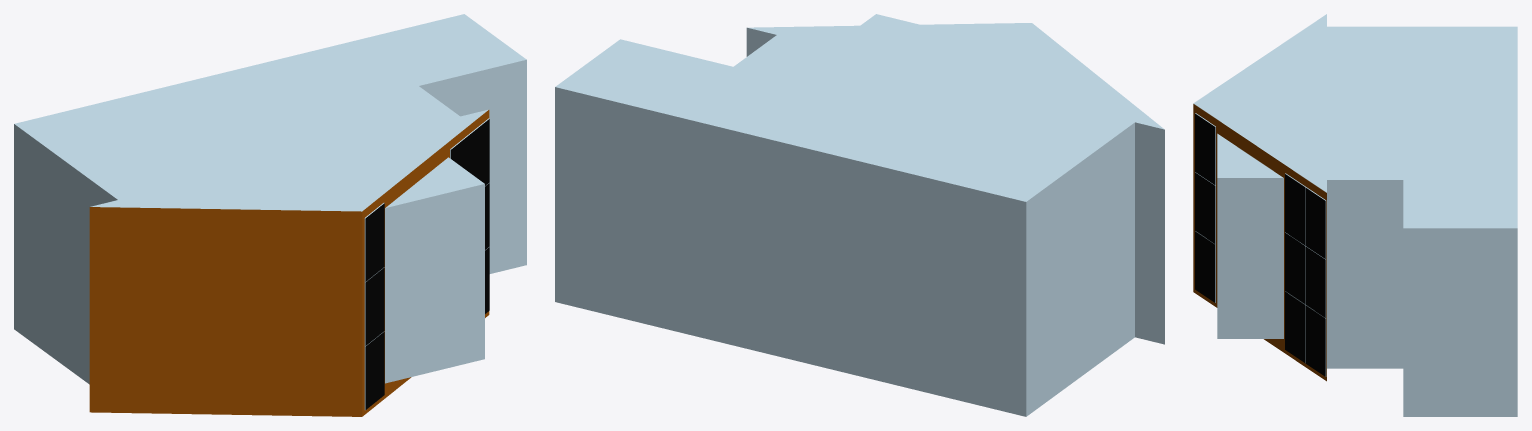
The model's file is house.glb.
3 renders of one model, left to right at view 1: azimuth 30°, elevation 25°; view 2: azimuth 150°, elevation 25°; view 3: azimuth 270°, elevation 25°, orthographic. The views are drawn at different scales.
Visible parts, largest first — view 1: Part 1; view 2: Part 1; view 3: Part 1.
Part boxes in pixels (left/top/right/bottom): Part 1: left=14, top=14, right=526, bottom=416; Part 1: left=555, top=14, right=1164, bottom=416; Part 1: left=1193, top=14, right=1517, bottom=416.
Size of the model in its own units: 13.29 by 5.45 by 8.5.
